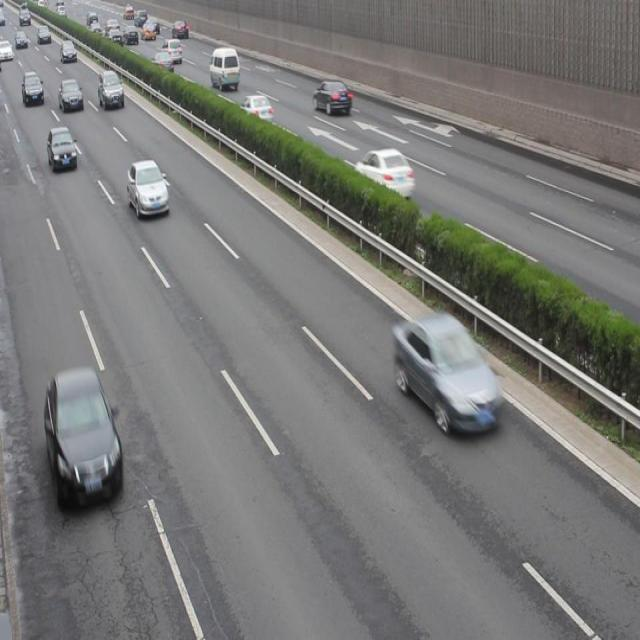car: (393, 308, 501, 433), (43, 368, 124, 510), (354, 146, 412, 200), (128, 157, 170, 221), (312, 78, 352, 118), (48, 126, 78, 174), (237, 93, 273, 131)
